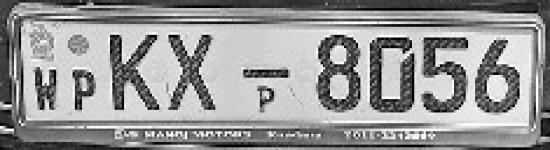-: (238, 64, 294, 86)
5: (418, 32, 473, 116)
6: (472, 34, 525, 120)
8: (366, 31, 417, 120), (312, 32, 365, 117)
K: (106, 26, 163, 117)
P: (69, 65, 97, 114)
W: (31, 61, 63, 116)
X: (163, 29, 220, 117)
